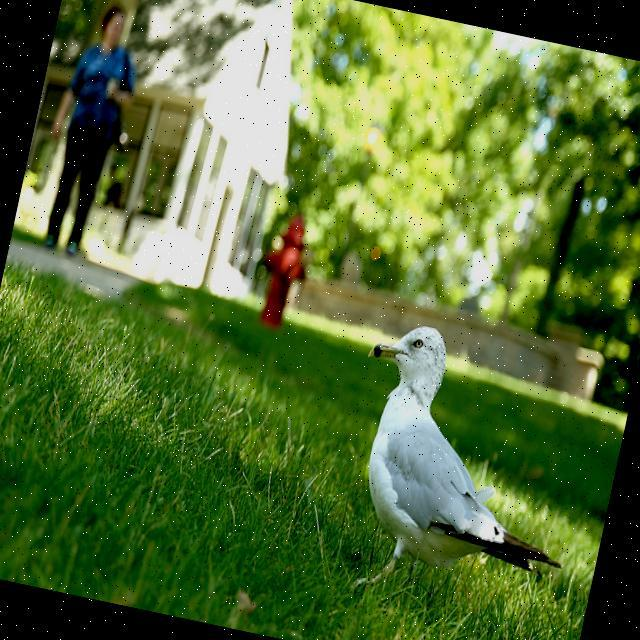fire_hydrant: (247, 202, 320, 334)
